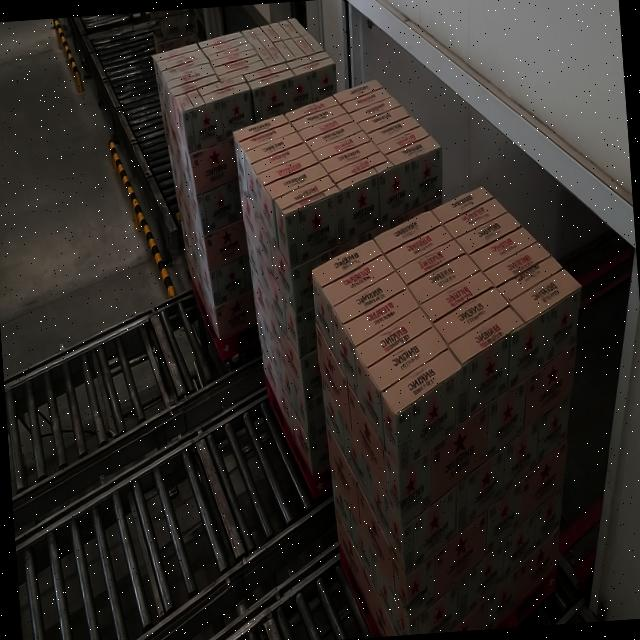pallet: (304, 165, 606, 640), (224, 72, 466, 504), (146, 5, 357, 368)
